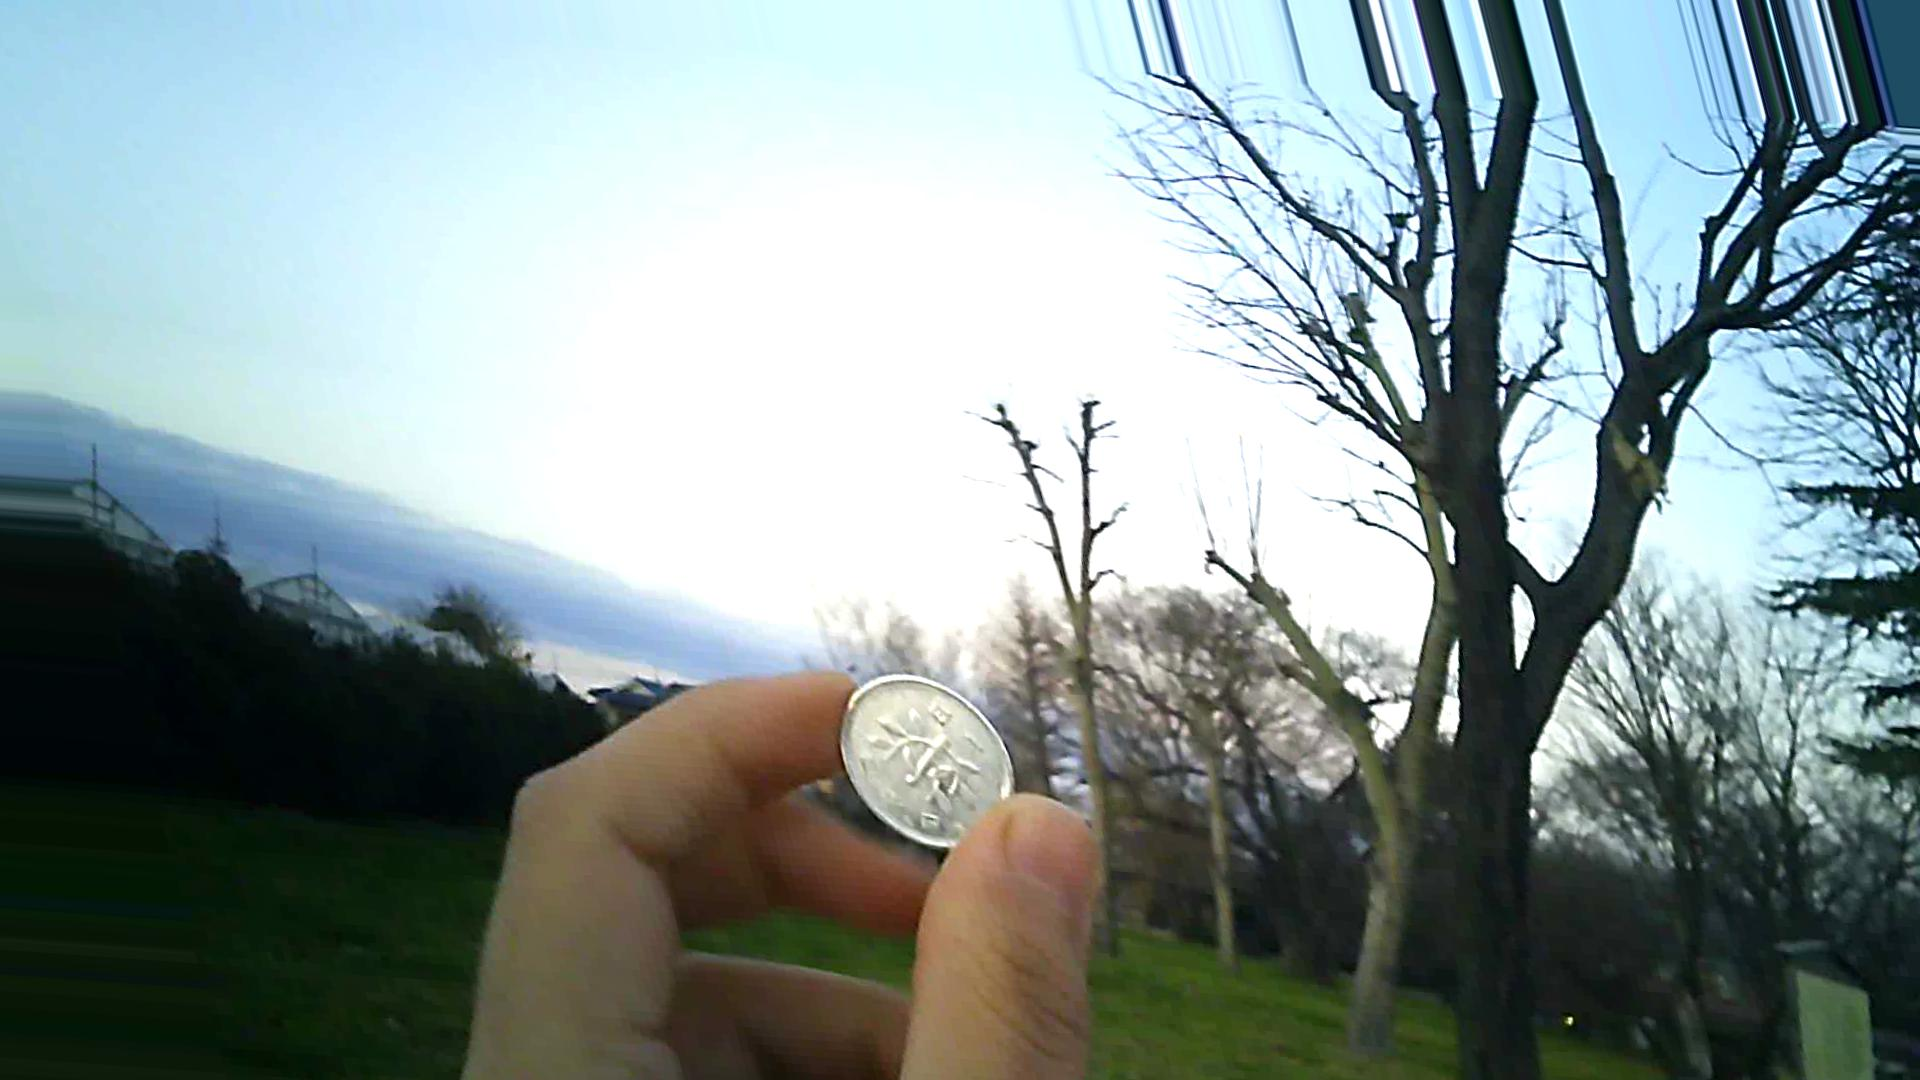1 Yen: (837, 675, 1025, 870)
